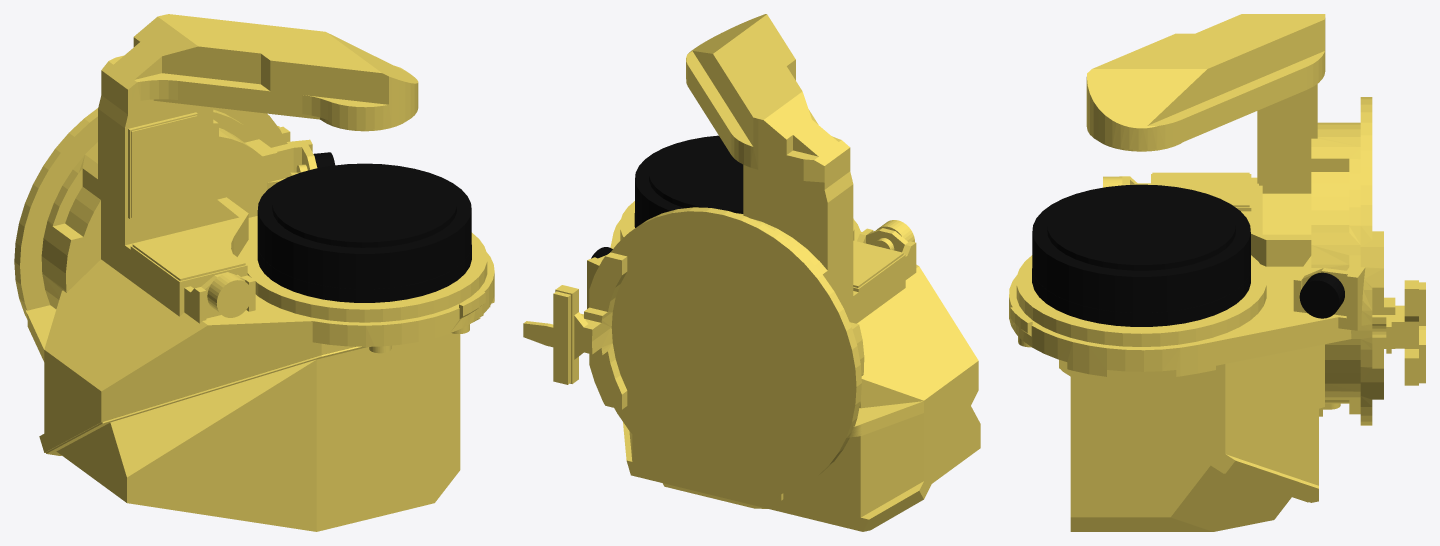
3 renders of one model, left to right at view 1: azimuth 30°, elevation 25°; view 2: azimuth 150°, elevation 25°; view 3: azimuth 270°, elevation 25°, orthographic. The views are drawn at different scales.
Parts seen in each view (by area): view 1: /Link1/Link1_002-mesh/0, /Link1/Link1_002-mesh/1; view 2: /Link1/Link1_002-mesh/0, /Link1/Link1_002-mesh/1; view 3: /Link1/Link1_002-mesh/0, /Link1/Link1_002-mesh/1.
Boxes of the visible parts, box(x1,y1,x2,y2) form: /Link1/Link1_002-mesh/0: box(14, 14, 494, 531); /Link1/Link1_002-mesh/1: box(257, 152, 471, 302); /Link1/Link1_002-mesh/0: box(523, 14, 980, 531); /Link1/Link1_002-mesh/1: box(591, 135, 743, 258); /Link1/Link1_002-mesh/0: box(1009, 14, 1425, 531); /Link1/Link1_002-mesh/1: box(1032, 184, 1344, 326).
Bounding box in the file's own units: 0.566 × 0.6319 × 0.5403.
